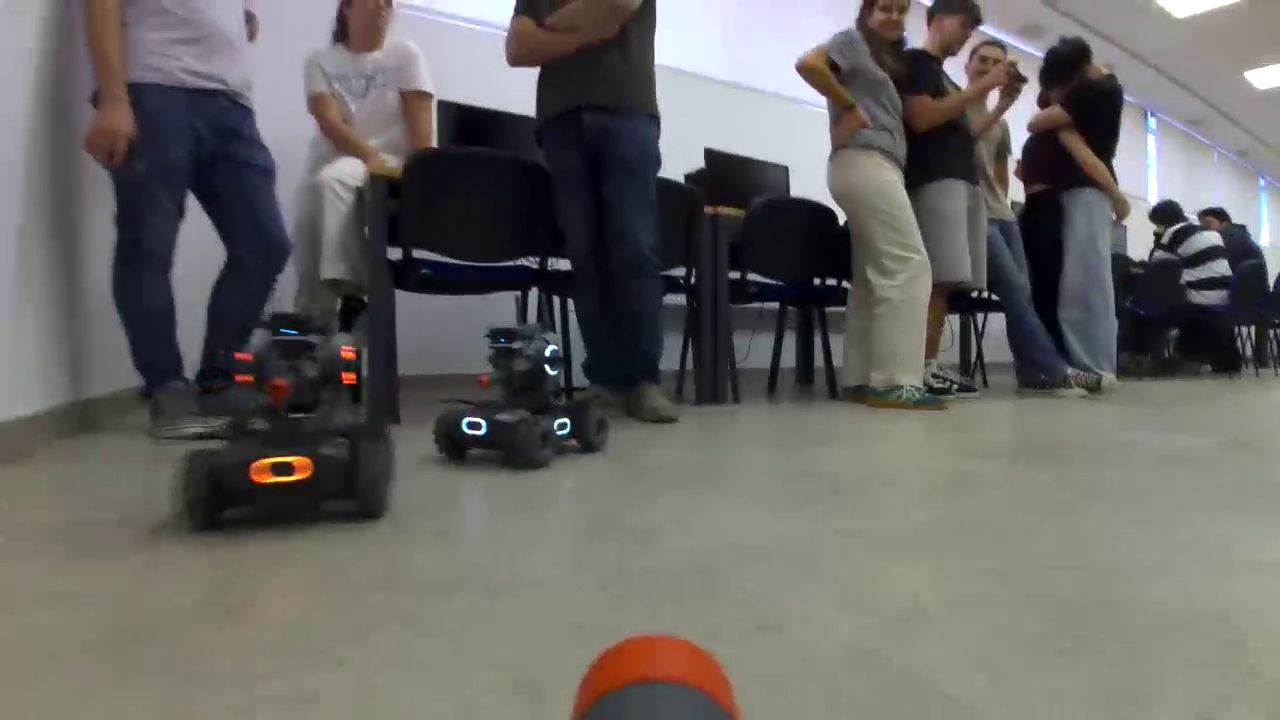robot: (185, 333, 392, 521), (437, 334, 609, 477)
